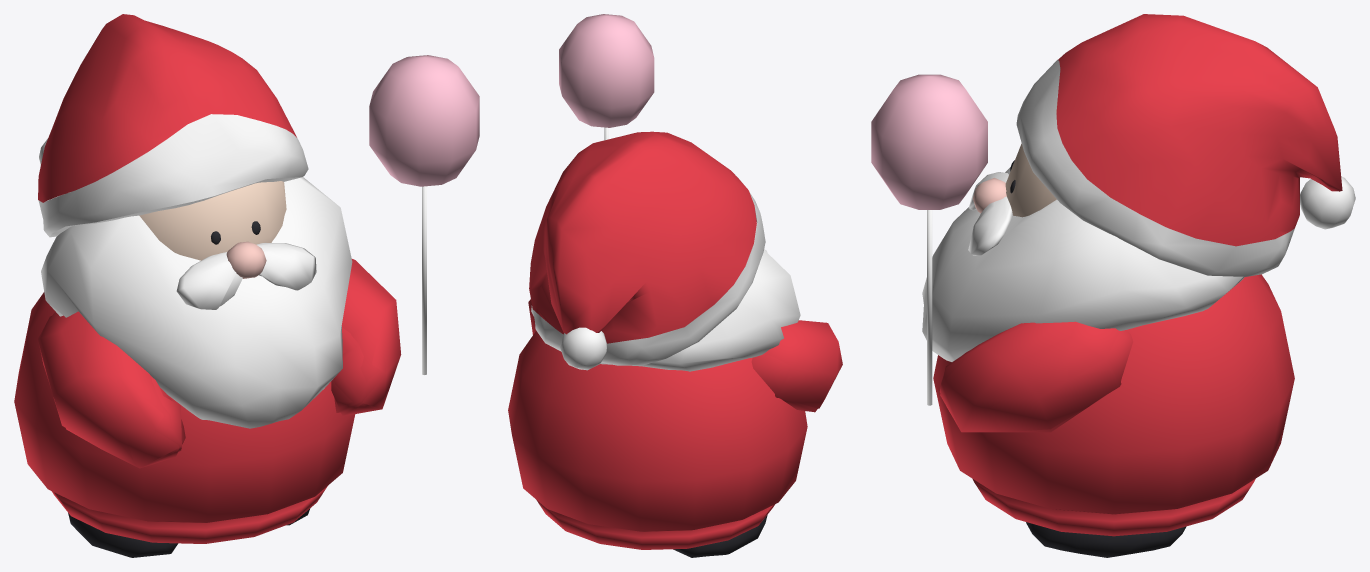
The model's file is wheel.glb.
The picture shows the model from 3 angles, left to right: view 1: azimuth 30°, elevation 25°; view 2: azimuth 150°, elevation 25°; view 3: azimuth 270°, elevation 25°; orthographic projection. The views are drawn at different scales.
Visible parts, largest first — view 1: wheel_red, wheel_white, wheel_pink, wheel_skin, wheel_black, wheel_nose; view 2: wheel_red, wheel_white, wheel_pink, wheel_black; view 3: wheel_red, wheel_white, wheel_pink, wheel_black, wheel_skin, wheel_nose.
Boxes of the visible parts, left/top/right/bottom form: wheel_red: left=14, top=14, right=401, bottom=543; wheel_white: left=38, top=114, right=426, bottom=428; wheel_pink: left=369, top=55, right=479, bottom=186; wheel_skin: left=139, top=115, right=286, bottom=260; wheel_black: left=68, top=221, right=310, bottom=557; wheel_nose: left=226, top=241, right=266, bottom=278; wheel_red: left=508, top=131, right=842, bottom=549; wheel_white: left=531, top=127, right=800, bottom=371; wheel_pink: left=559, top=14, right=654, bottom=127; wheel_black: left=673, top=515, right=767, bottom=557; wheel_red: left=933, top=14, right=1342, bottom=536; wheel_white: left=922, top=59, right=1355, bottom=405; wheel_pink: left=871, top=74, right=987, bottom=209; wheel_black: left=1010, top=160, right=1186, bottom=557; wheel_skin: left=1005, top=99, right=1117, bottom=217; wheel_nose: left=972, top=178, right=1006, bottom=213.
Size of the model in its own units: 2.41 by 3.11 by 2.68.
